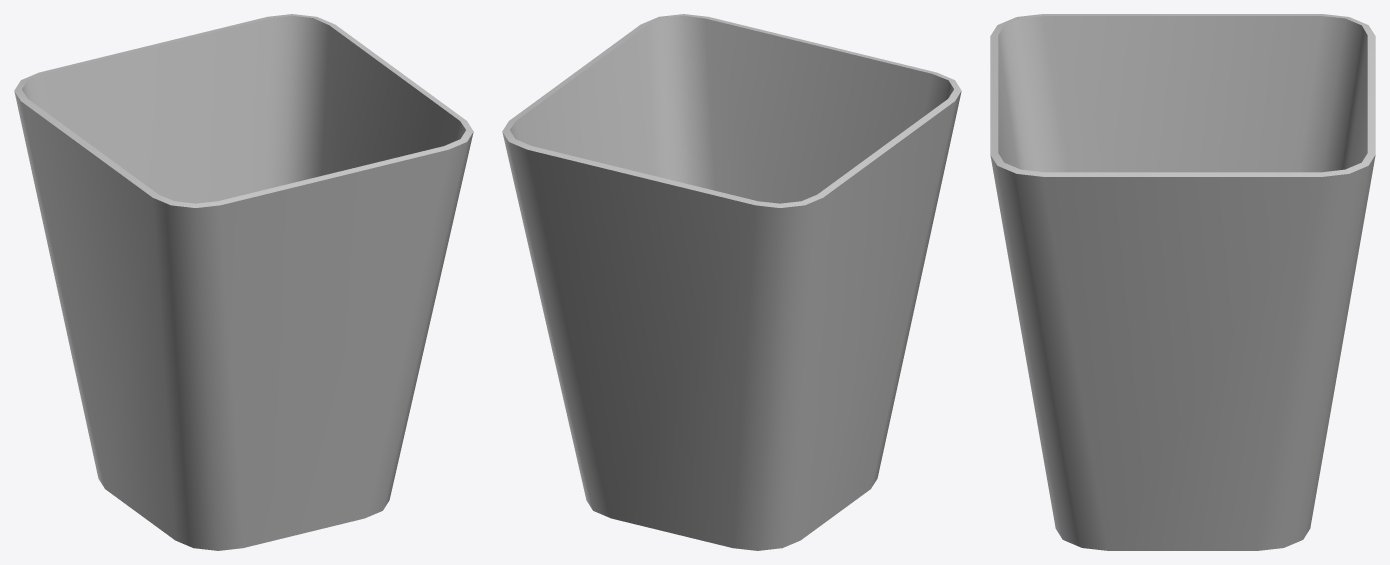
File: trash_can_1.glb
3 views of the same model, side by side, from view 1: azimuth 30°, elevation 25°; view 2: azimuth 150°, elevation 25°; view 3: azimuth 270°, elevation 25° (orthographic). The views are drawn at different scales.
Parts seen in each view (by area): view 1: trash_can_1; view 2: trash_can_1; view 3: trash_can_1.
Boxes of the visible parts, x1=… form: trash_can_1: x1=14, y1=14, x2=473, y2=550; trash_can_1: x1=502, y1=14, x2=961, y2=550; trash_can_1: x1=990, y1=14, x2=1375, y2=550.
Size of what is drawn, in the model's own units: 0.4249 by 0.4905 by 0.4249.
1 material, 1 textured.
